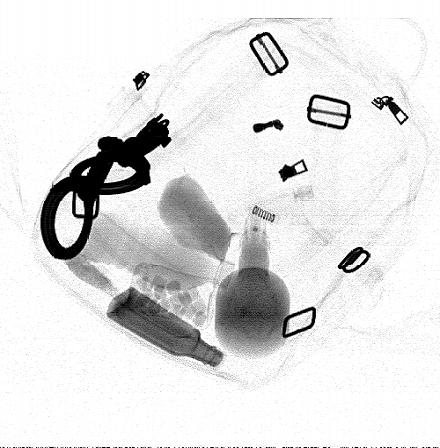HandCuffs: (40, 113, 172, 260)
